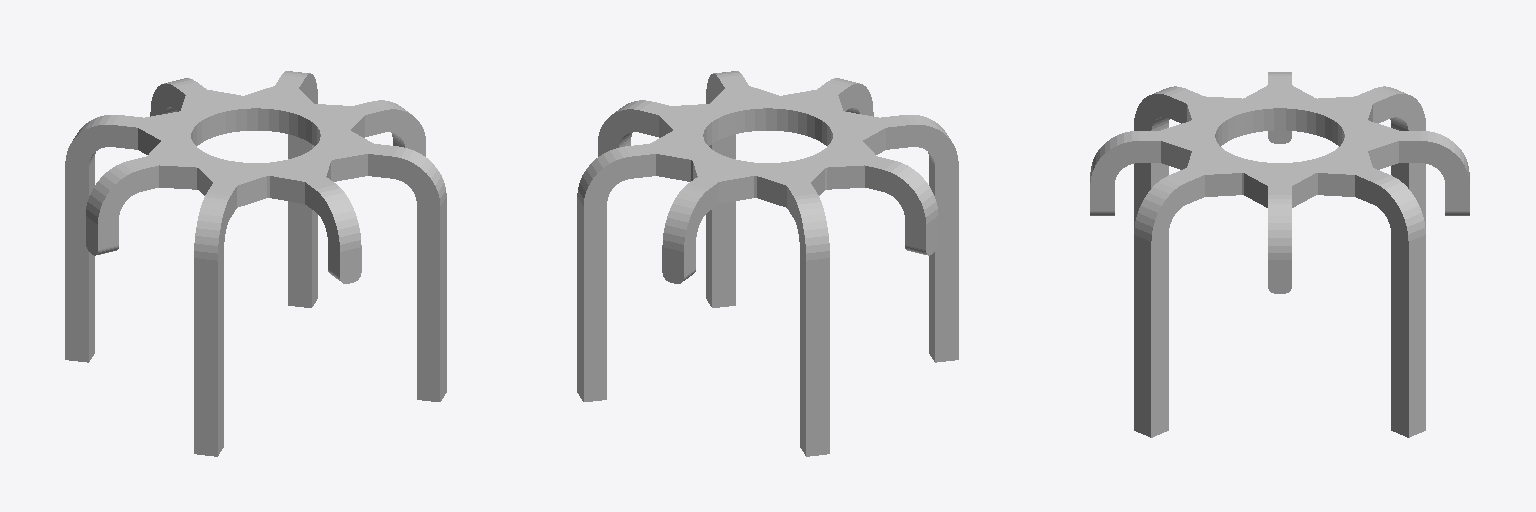
File: velodyne_cage.obj
3 renders of one model, left to right at view 1: azimuth 30°, elevation 25°; view 2: azimuth 150°, elevation 25°; view 3: azimuth 270°, elevation 25°, orthographic.
Visible parts, largest first — view 1: velodyne_cage; view 2: velodyne_cage; view 3: velodyne_cage.
Boxes of the visible parts, <box> form: velodyne_cage: <box>65,71,446,456</box>; velodyne_cage: <box>577,71,958,456</box>; velodyne_cage: <box>1090,72,1469,437</box>.
Bounding box in the file's own units: 123 × 85.94 × 123.